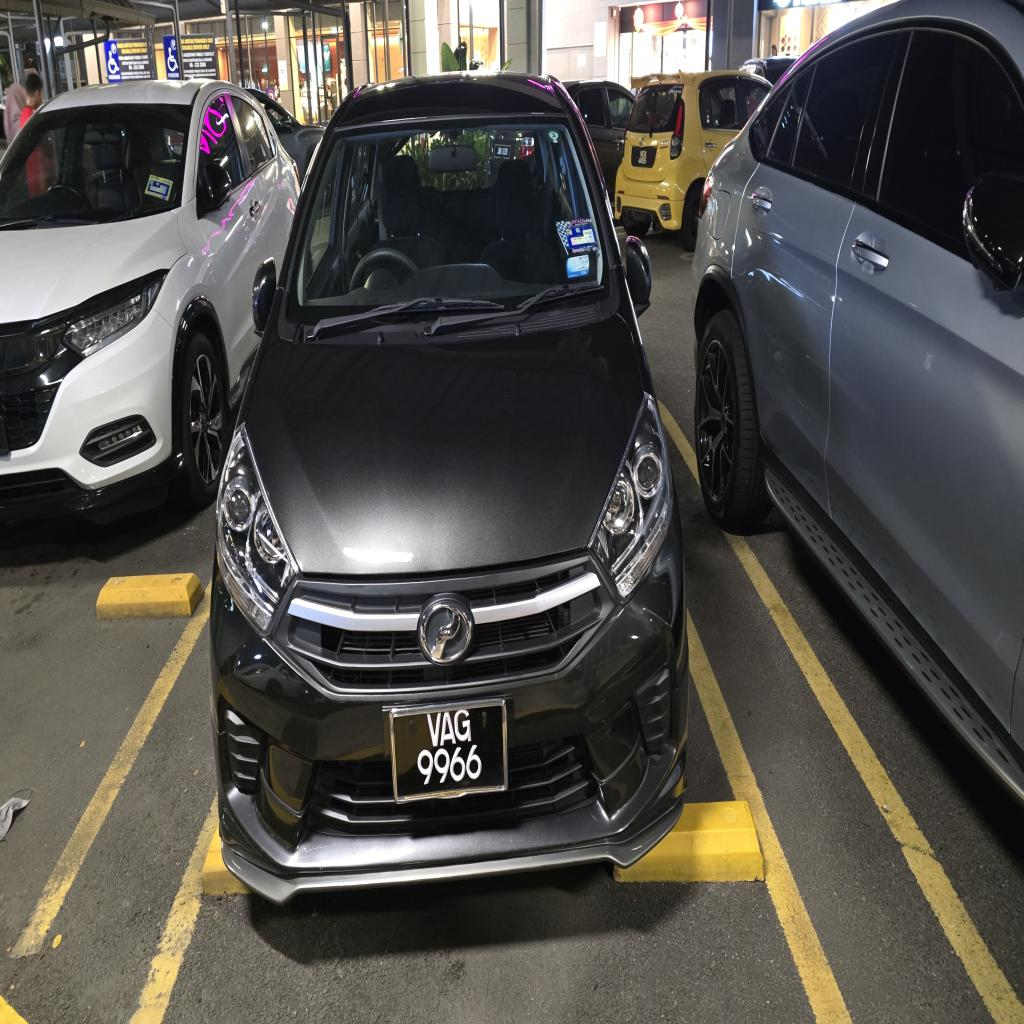car: (210, 73, 688, 901)
car plate: (389, 700, 507, 802)
